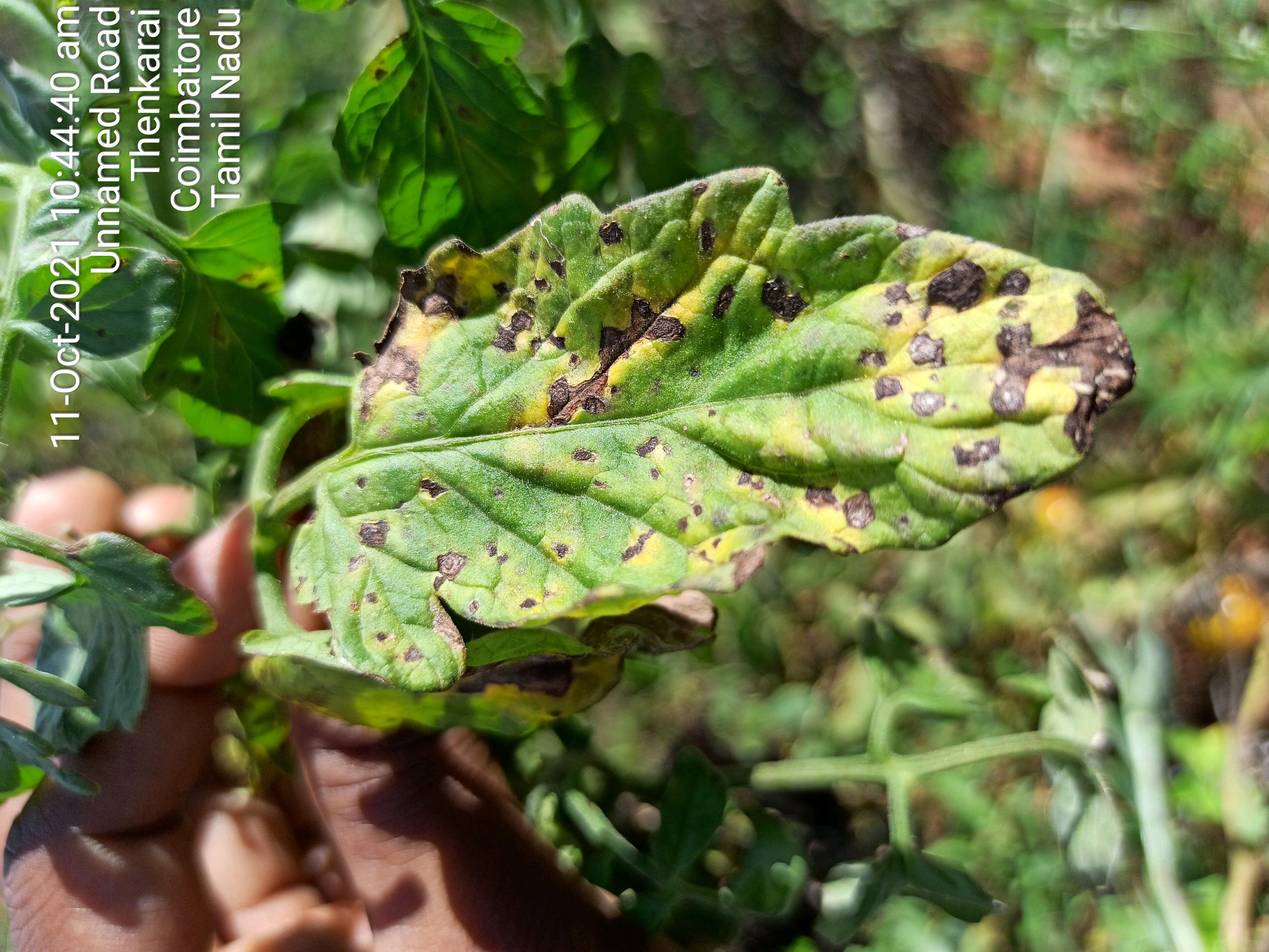Early Blight: (347, 213, 1048, 856)
